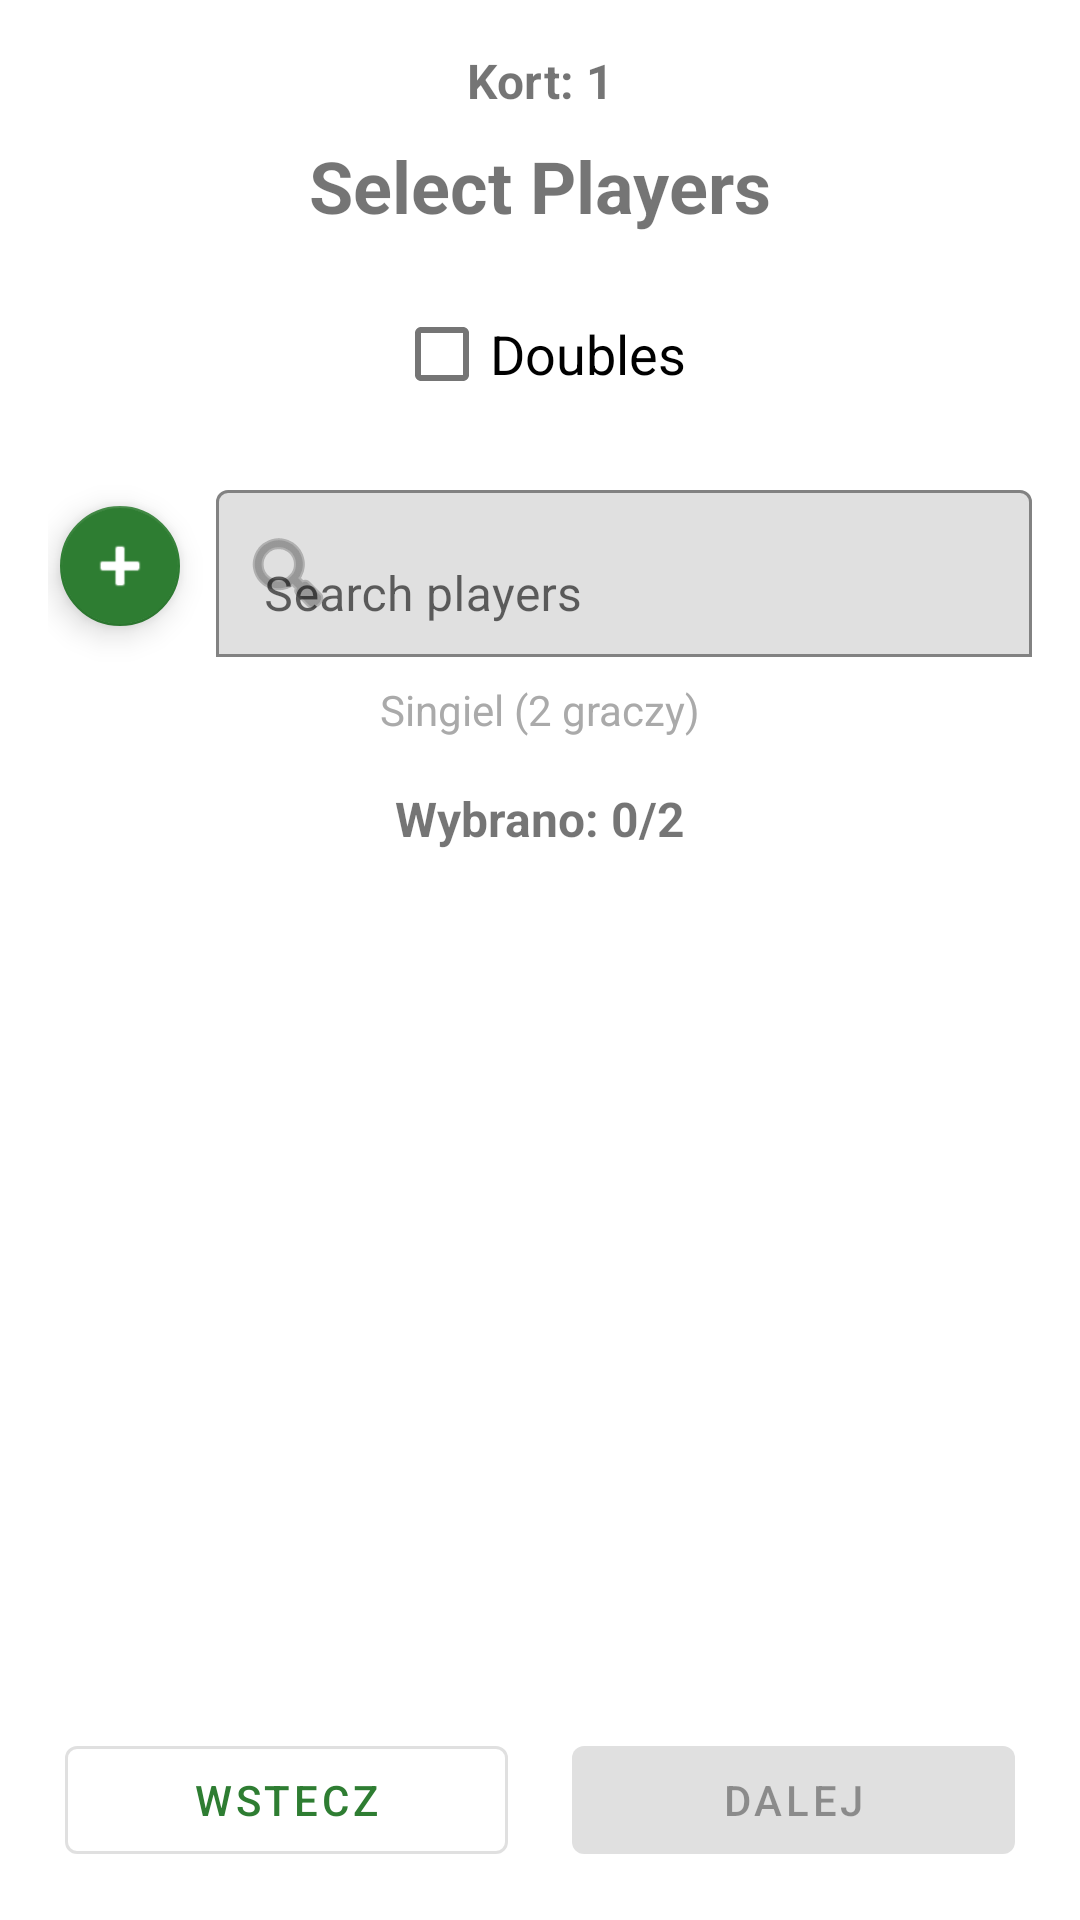

Point at icon controls on the screen. Image size 1080×1920, points as point (x, y).
+ Add new player: point (118, 568)
